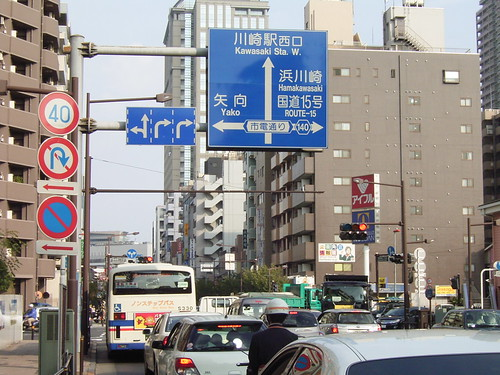building: (248, 60, 485, 293), (150, 1, 269, 264), (1, 5, 75, 300)
bus: (100, 265, 192, 350)
car: (151, 318, 262, 375)
sign: (208, 22, 327, 146), (120, 102, 196, 144), (37, 91, 80, 138), (37, 134, 80, 181), (35, 194, 78, 241)
